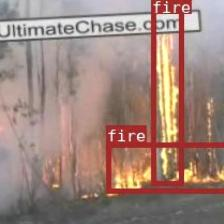fire: (105, 141, 224, 192), (150, 0, 182, 185)
